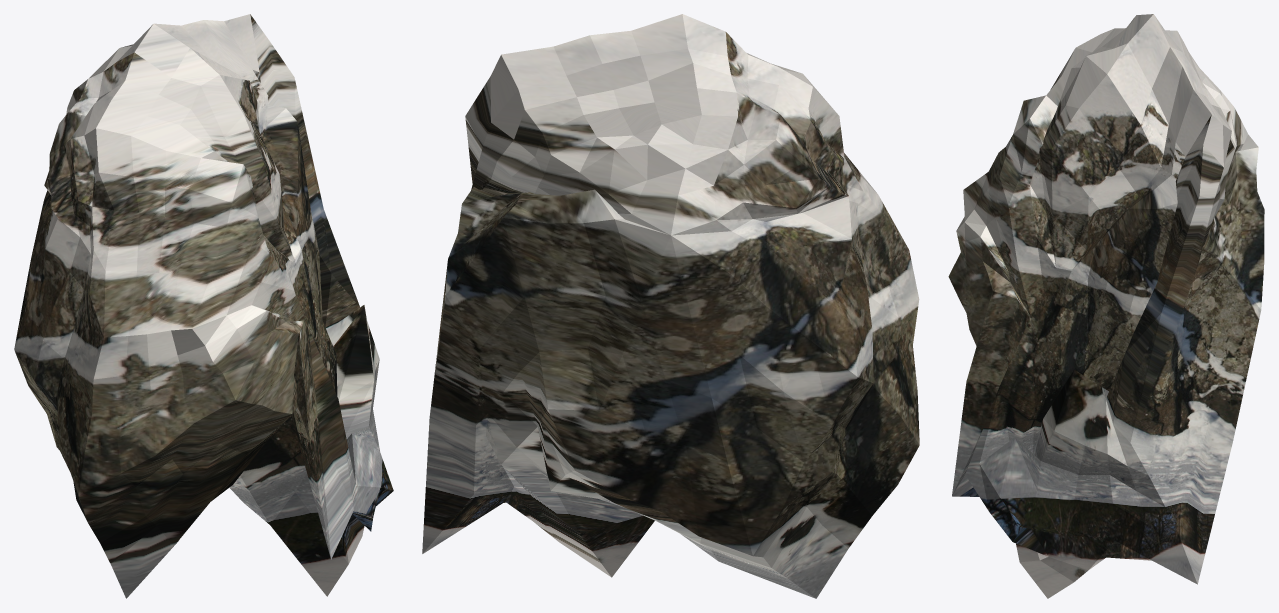
Rendered from SnowStone1.fbx.
3 views of the same model, side by side, from view 1: azimuth 30°, elevation 25°; view 2: azimuth 150°, elevation 25°; view 3: azimuth 270°, elevation 25° (orthographic). The views are drawn at different scales.
Visible parts, largest first — view 1: Sphere.009; view 2: Sphere.009; view 3: Sphere.009.
Boxes of the visible parts, left/top/right/bottom form: Sphere.009: left=14, top=14, right=393, bottom=598; Sphere.009: left=422, top=14, right=919, bottom=598; Sphere.009: left=948, top=14, right=1264, bottom=598.
Bounding box in the file's own units: 1535 × 2285 × 1233.
